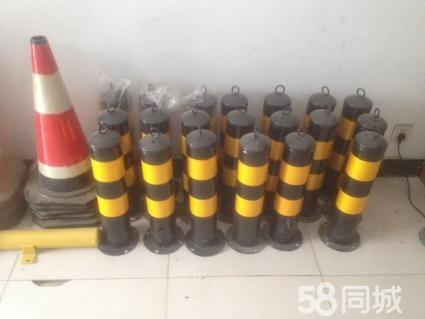cone_barrel: (20, 37, 98, 214), (326, 131, 388, 244), (264, 132, 316, 244), (86, 130, 134, 247), (137, 130, 180, 247), (229, 130, 270, 248), (186, 129, 220, 248)
